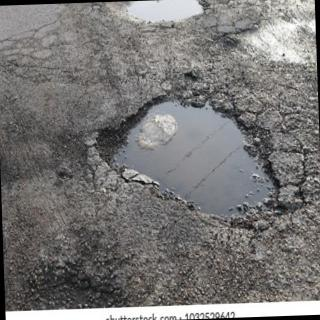pothole: (96, 98, 286, 217)
